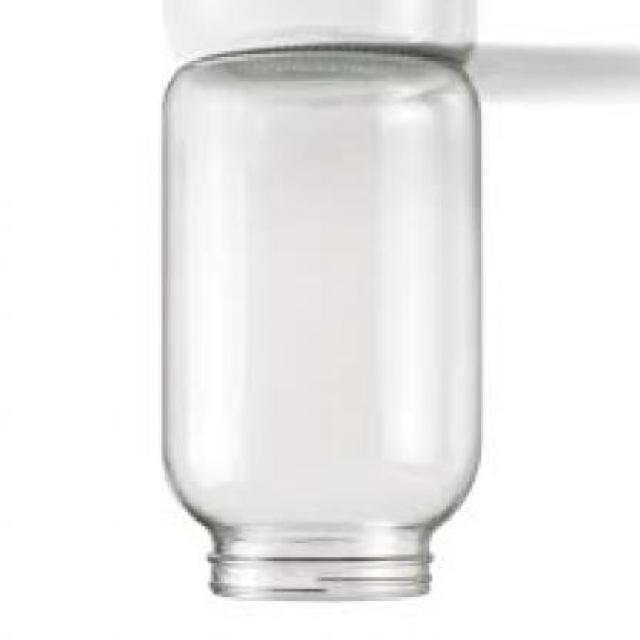GLASS: (159, 52, 481, 602)
